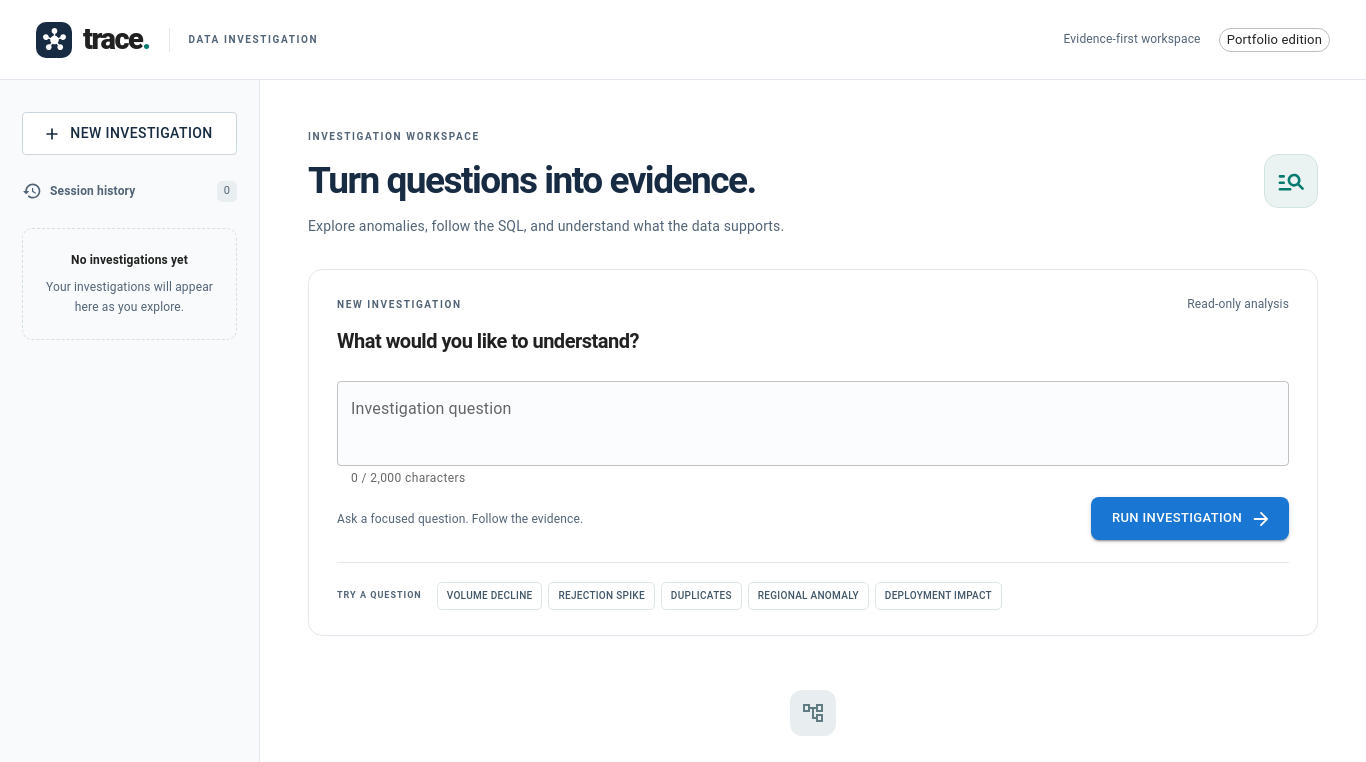
runs POST then GET and stores metadata only in session history
Click the button "Volume decline". click: (490,596)
box: 437,582 -> 542,610
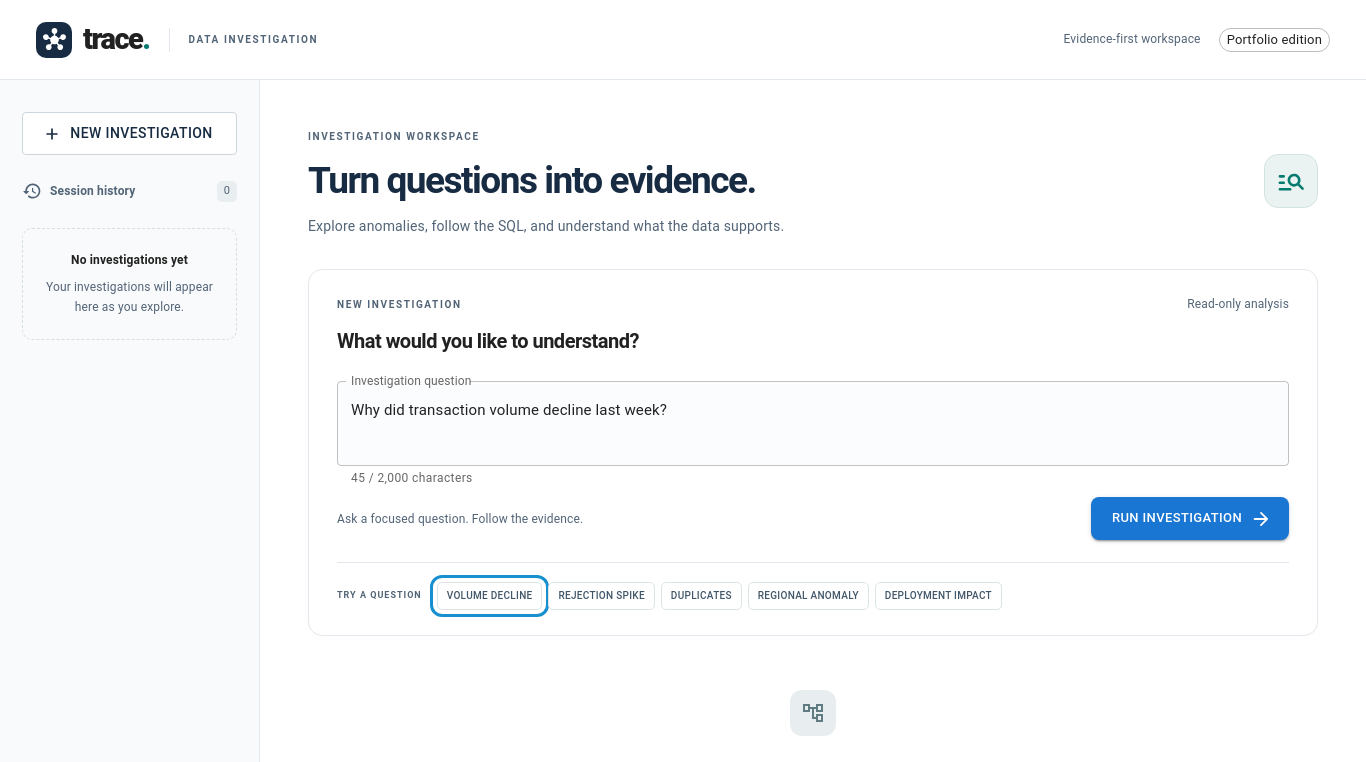
Click the button "Run investigation". click: (1190,519)
box: 1091,497 -> 1289,540
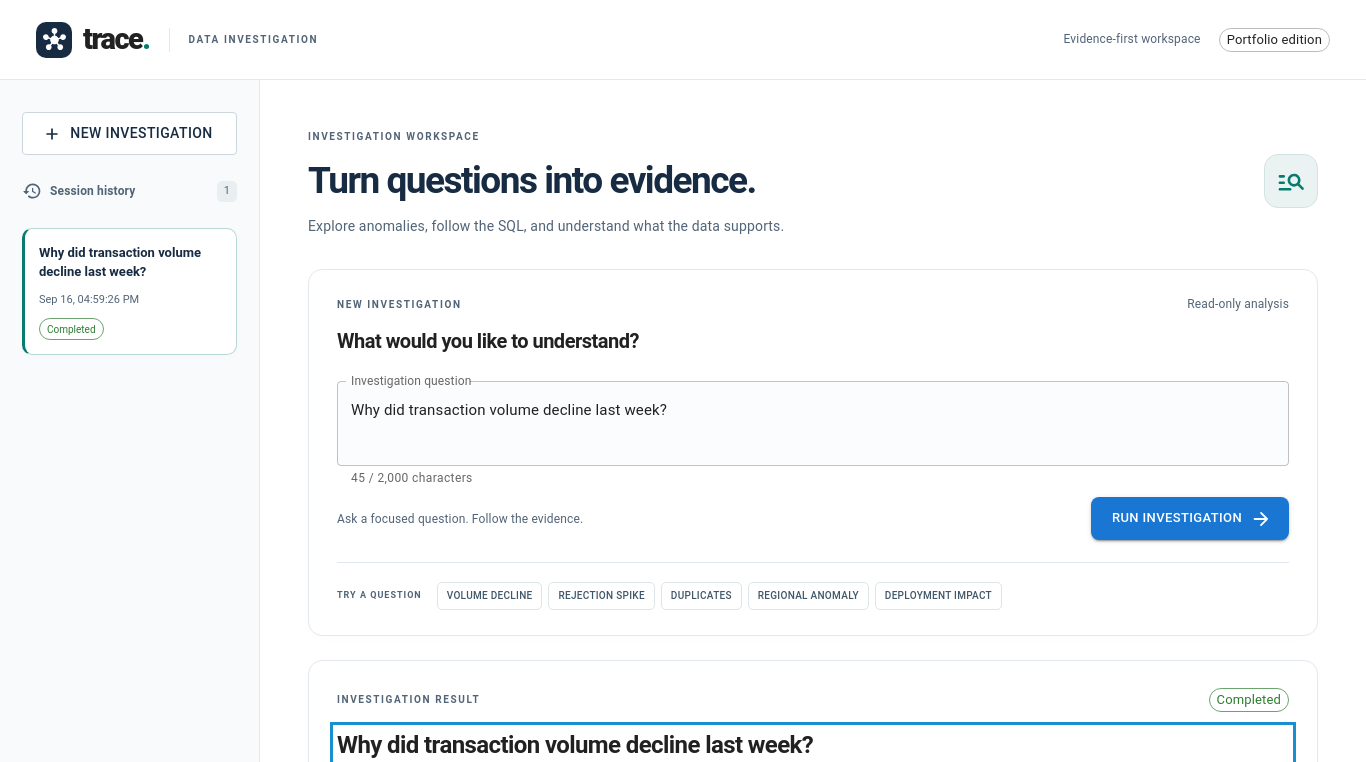
Now the heading "Why did transaction volume decline last week?" is shown, box 337,730 -> 813,758
Now the navigation bar named "Investigation history" shows "Why did transaction volume decline last week?", box 22,228 -> 237,355
